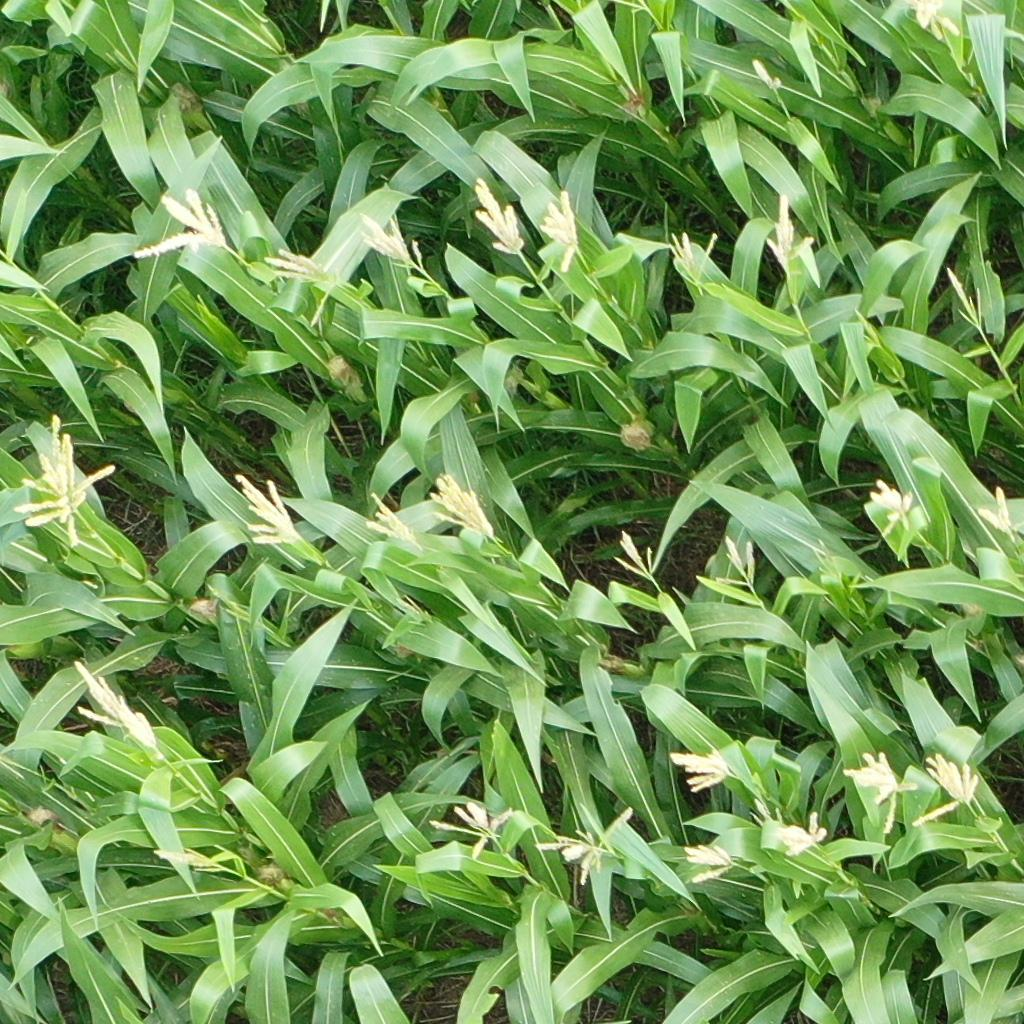Tassel: (10, 411, 119, 555), (128, 184, 237, 264), (534, 807, 639, 889), (74, 659, 158, 744), (262, 246, 347, 329), (839, 749, 915, 838), (426, 797, 518, 866), (908, 750, 988, 828), (235, 468, 305, 547), (423, 472, 497, 540), (469, 177, 529, 252), (357, 211, 429, 273), (760, 193, 811, 274), (362, 489, 426, 553), (539, 190, 586, 274), (667, 742, 735, 793), (865, 479, 919, 541), (665, 231, 720, 286), (973, 485, 1023, 542), (778, 809, 830, 863), (942, 267, 986, 327), (713, 534, 760, 590), (682, 837, 738, 884), (149, 841, 224, 875), (610, 528, 655, 580), (905, 1, 961, 41), (748, 59, 785, 94), (750, 797, 787, 832), (812, 547, 843, 582), (852, 310, 882, 346)
